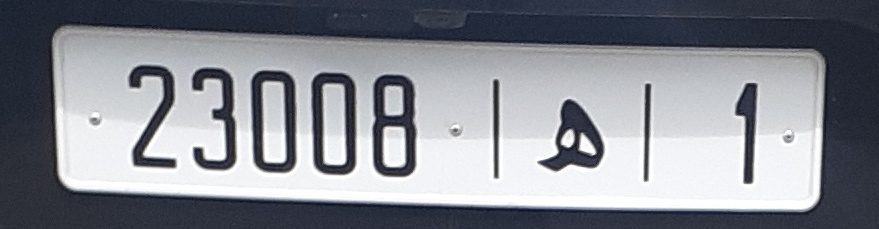0: (246, 63, 301, 179), (306, 67, 363, 178)
1: (717, 69, 771, 188)
2: (119, 59, 182, 173)
3: (184, 59, 242, 178)
8: (369, 64, 427, 182)
h: (520, 92, 616, 186)
